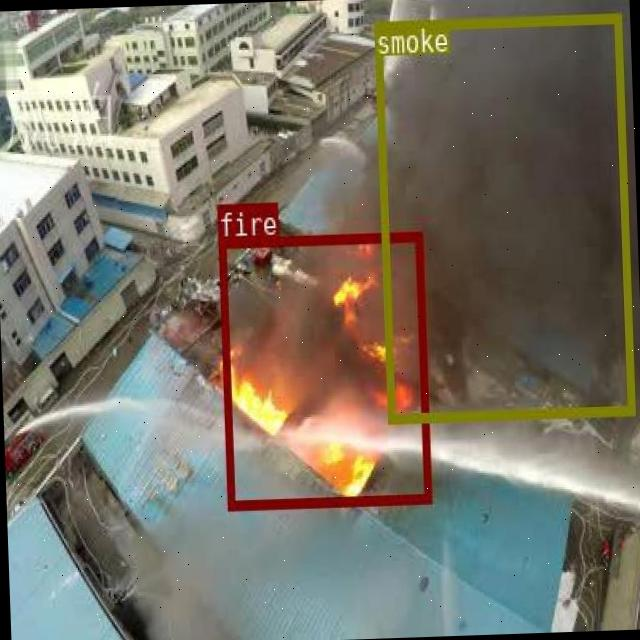fire: (217, 230, 430, 508)
smoke: (372, 12, 632, 420)
